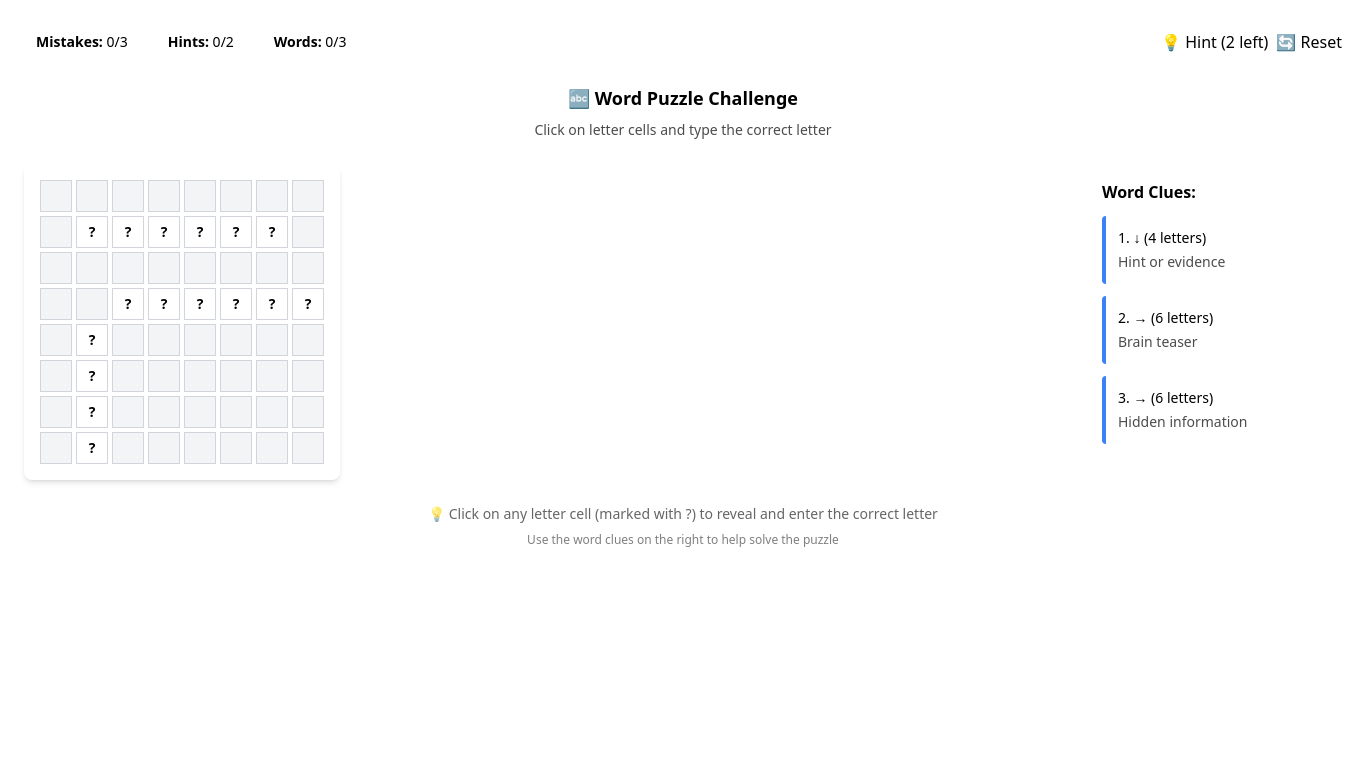
Test: WordPuzzleGame › Hint System › should disable hint button when all hints used
// Use all hints
Click the button "💡 Hint (2 left)" at (1215, 42), box [1161,30,1268,54]
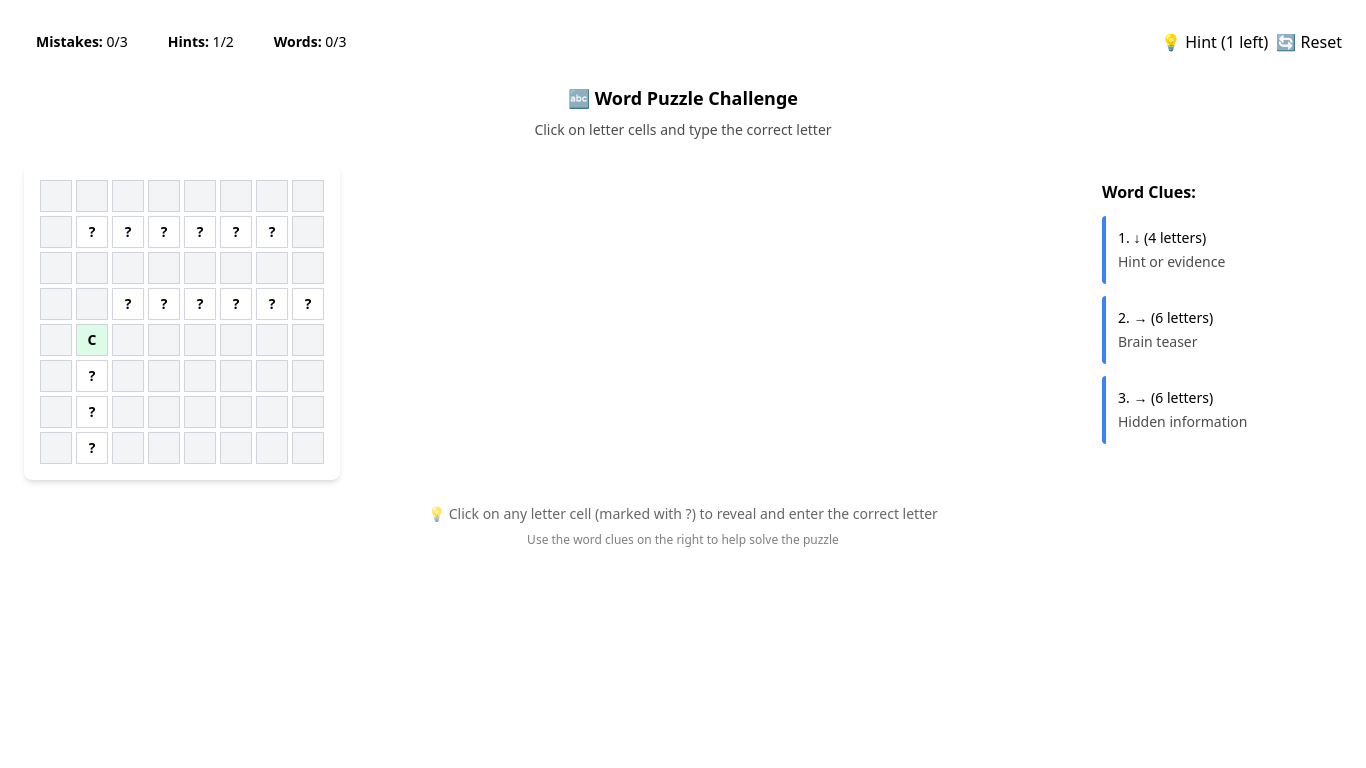
Click the button "💡 Hint (1 left)" at (1215, 42), box [1161,30,1268,54]
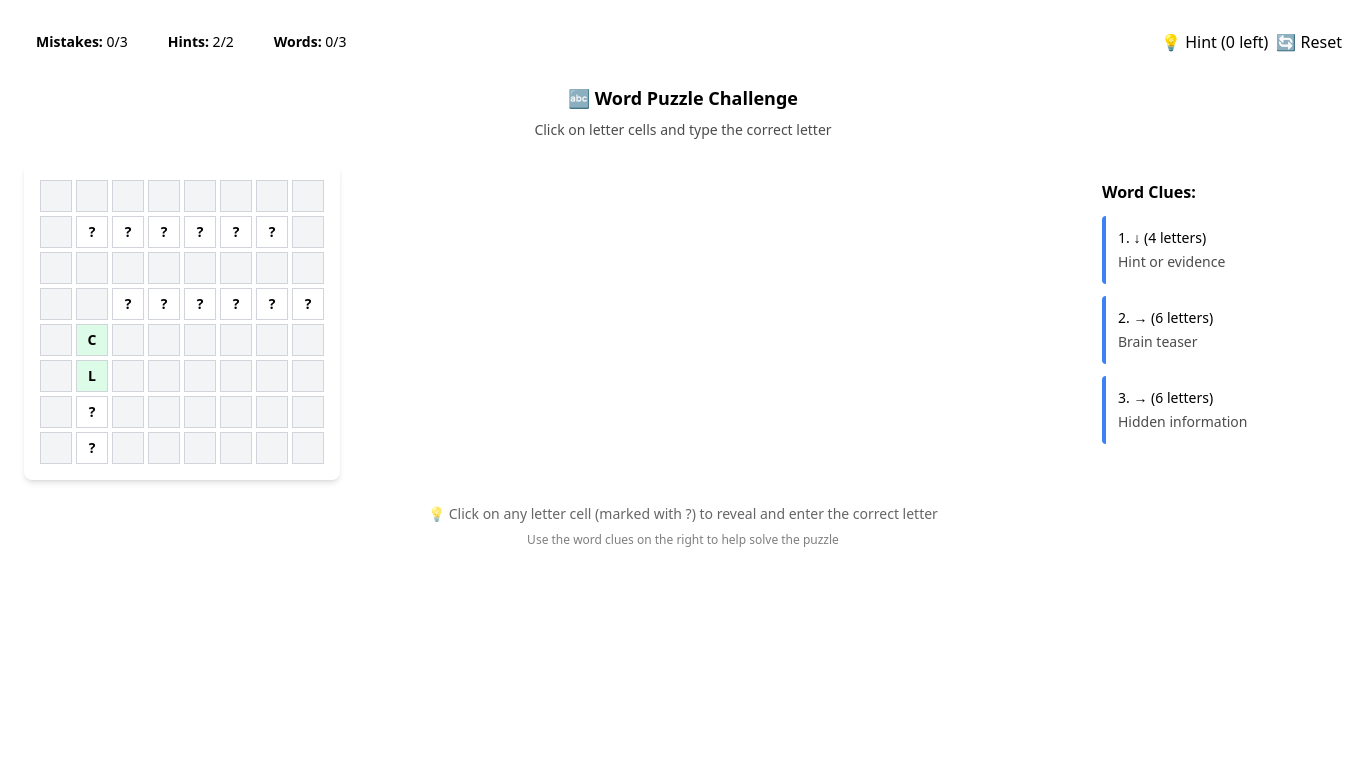
Check: the button "💡 Hint (0 left)" is disabled, box [1161,30,1268,54]
